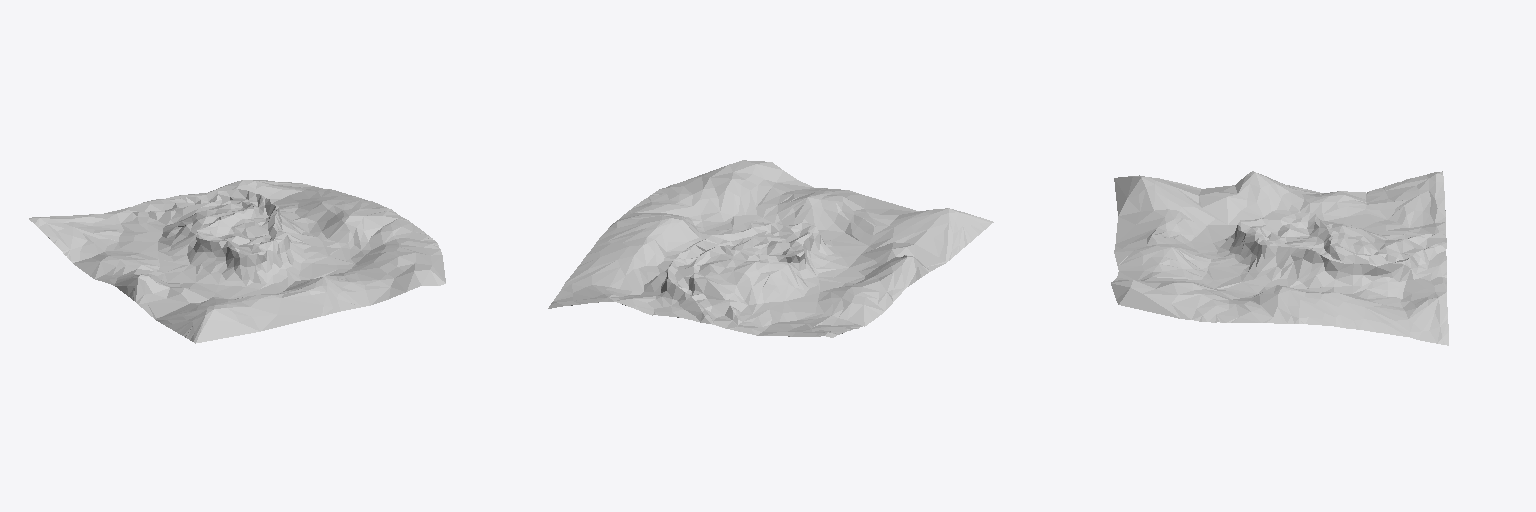
File: Close Grass.obj
3 views of the same model, side by side, from view 1: azimuth 30°, elevation 25°; view 2: azimuth 150°, elevation 25°; view 3: azimuth 270°, elevation 25° (orthographic).
Parts seen in each view (by area): view 1: Plane.001; view 2: Plane.001; view 3: Plane.001.
Part boxes in pixels (bbox=[...]): Plane.001: bbox=[29, 180, 445, 343]; Plane.001: bbox=[548, 160, 993, 337]; Plane.001: bbox=[1111, 171, 1448, 345].
Size of the model in its own units: 133 by 21.13 by 133.